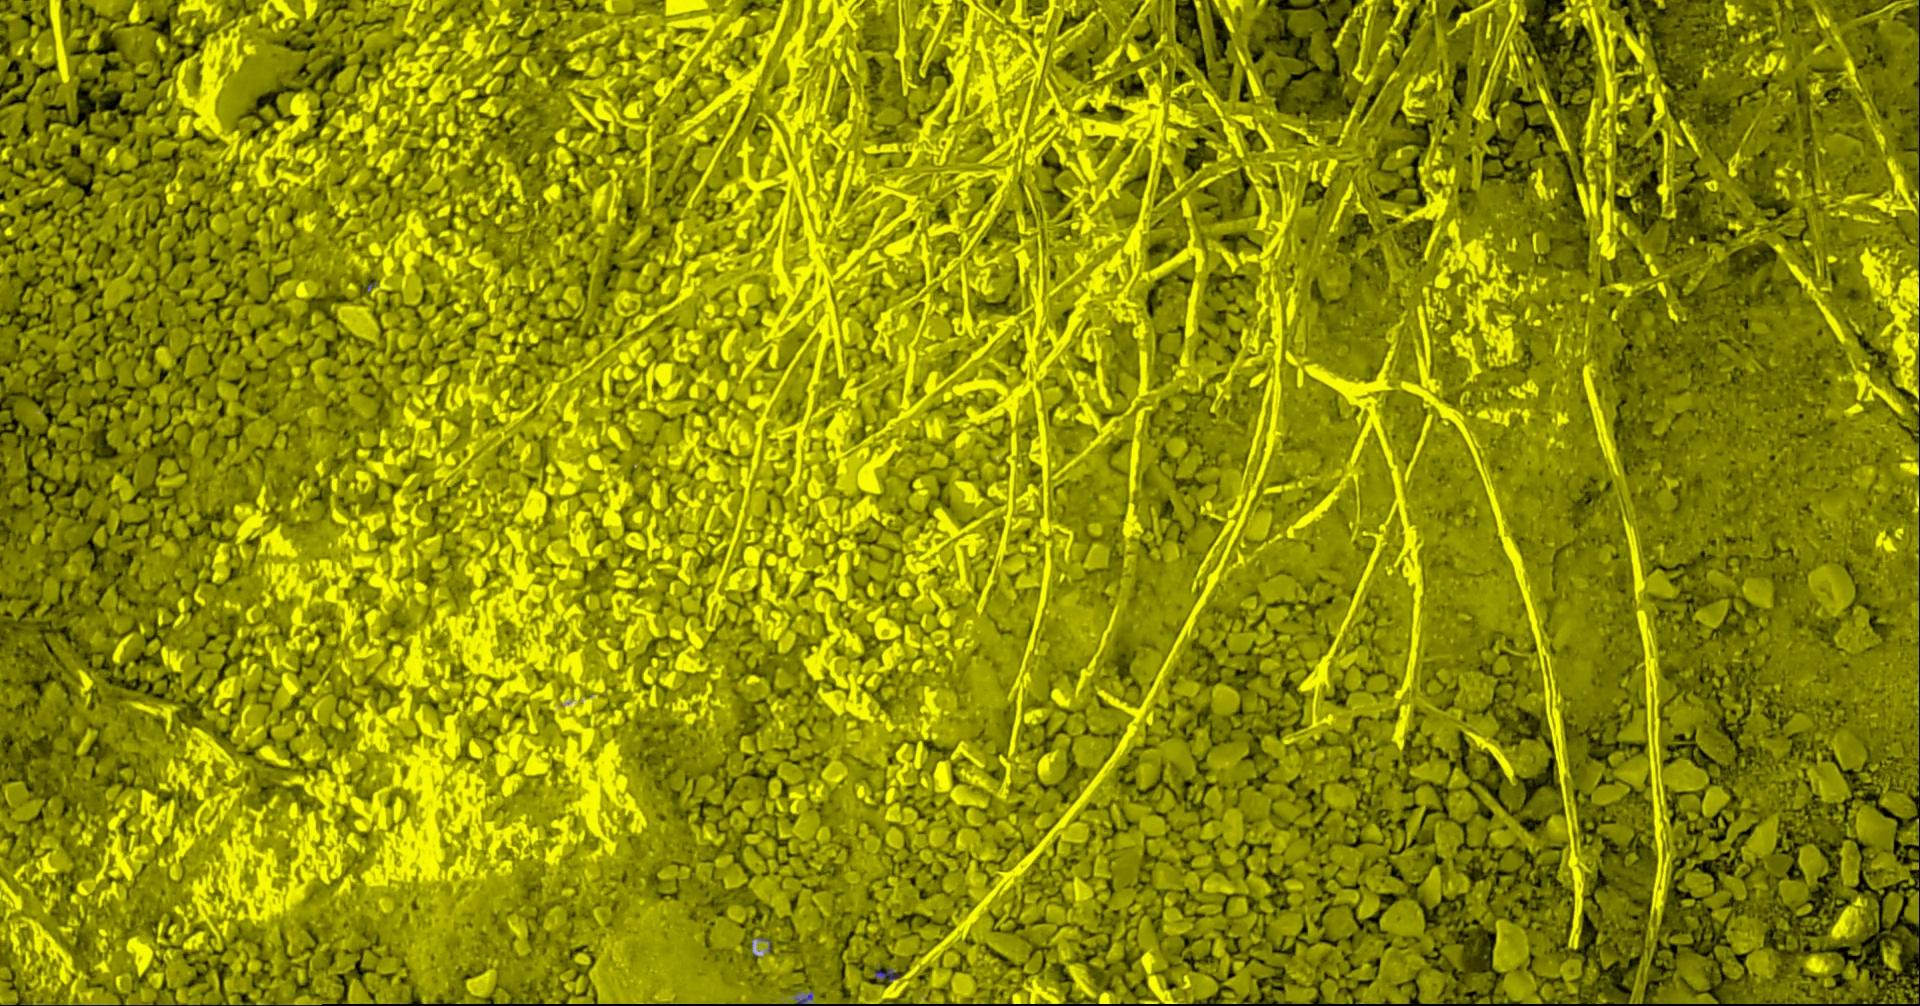ant: (876, 968, 902, 979)
